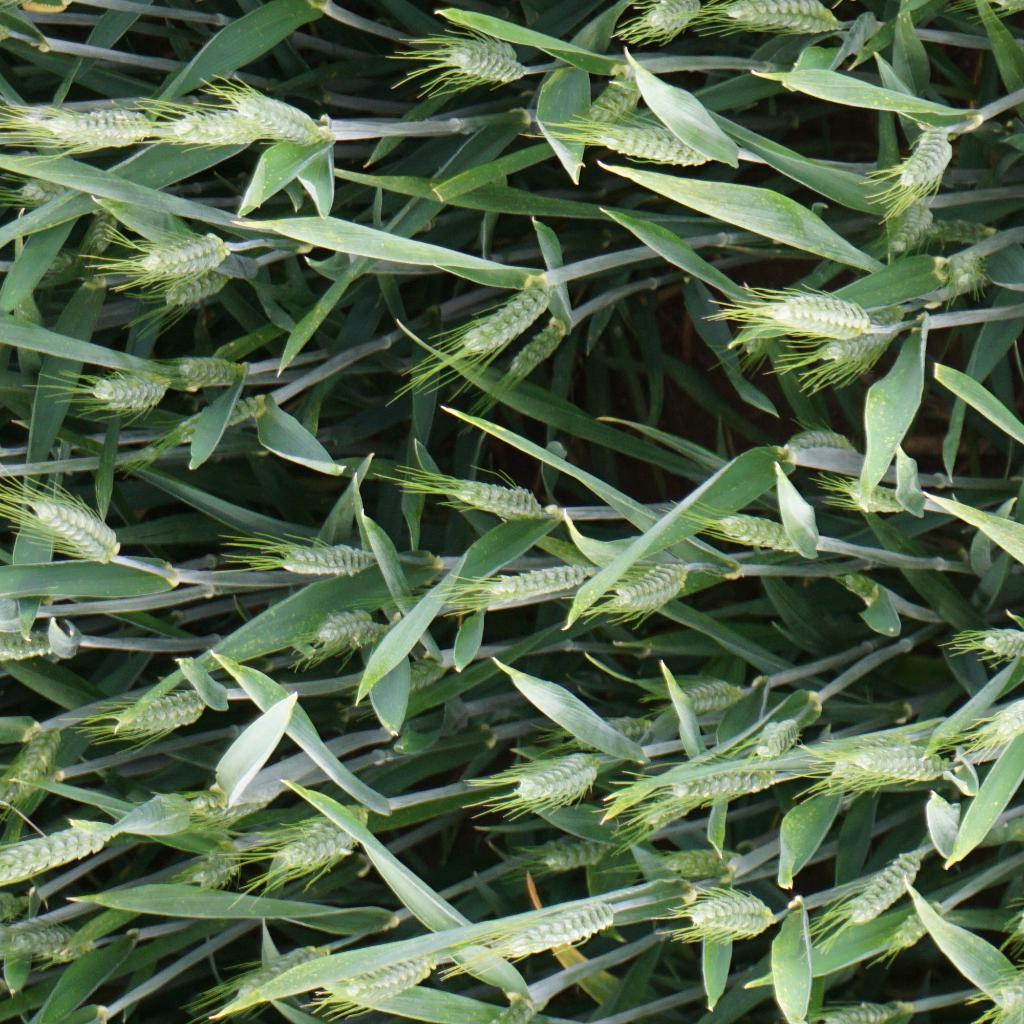0-0: (559, 112, 730, 180), (456, 264, 570, 361), (800, 298, 915, 388), (18, 484, 130, 566), (229, 76, 345, 153), (146, 387, 276, 455), (24, 103, 181, 158), (0, 818, 123, 887), (634, 750, 734, 834), (752, 289, 885, 346), (883, 112, 962, 205), (507, 891, 614, 957), (502, 308, 584, 393), (327, 948, 441, 1004), (291, 793, 369, 872), (159, 107, 289, 153), (468, 564, 595, 611), (128, 230, 240, 283), (850, 846, 920, 930), (416, 478, 553, 519), (0, 720, 69, 801), (82, 360, 182, 415), (716, 0, 856, 39), (116, 685, 209, 743), (577, 68, 655, 132), (243, 938, 323, 999), (516, 751, 604, 806), (685, 890, 775, 943), (604, 560, 691, 614), (701, 506, 800, 553), (435, 42, 548, 83), (159, 250, 240, 307), (841, 744, 952, 781), (184, 781, 271, 828), (379, 649, 454, 702), (543, 823, 624, 872), (629, 0, 712, 47), (263, 540, 379, 573), (0, 923, 99, 960), (666, 768, 773, 800), (669, 670, 741, 717), (310, 602, 379, 651), (844, 473, 922, 516), (164, 355, 258, 390), (888, 189, 935, 259), (77, 190, 124, 259), (176, 837, 239, 888), (424, 32, 526, 63), (559, 715, 653, 747), (887, 903, 945, 953), (816, 994, 912, 1024), (642, 852, 745, 879), (976, 688, 1024, 745), (0, 623, 62, 667), (936, 245, 994, 292), (785, 423, 852, 463), (754, 713, 806, 761), (972, 624, 1024, 668), (19, 176, 81, 212), (911, 218, 1004, 241), (837, 570, 877, 600)
